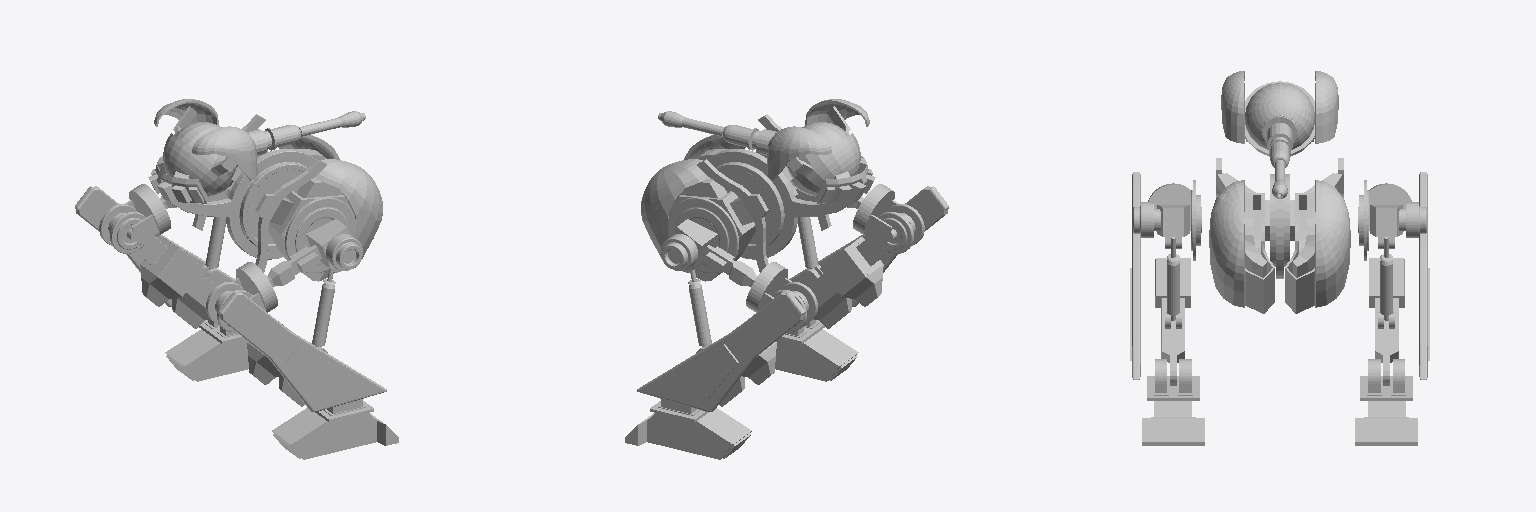
Rendered from player.obj.
The picture shows the model from 3 angles: view 1: azimuth 30°, elevation 25°; view 2: azimuth 150°, elevation 25°; view 3: azimuth 270°, elevation 25°; orthographic projection.
Parts seen in each view (by area): view 1: Object.1; view 2: Object.1; view 3: Object.1.
Part boxes in pixels (x1,y1,x2,y2): Object.1: (75, 99, 398, 459); Object.1: (625, 99, 948, 459); Object.1: (1130, 71, 1429, 445).
Bounding box in the file's own units: 70.39 × 95.7 × 84.39.